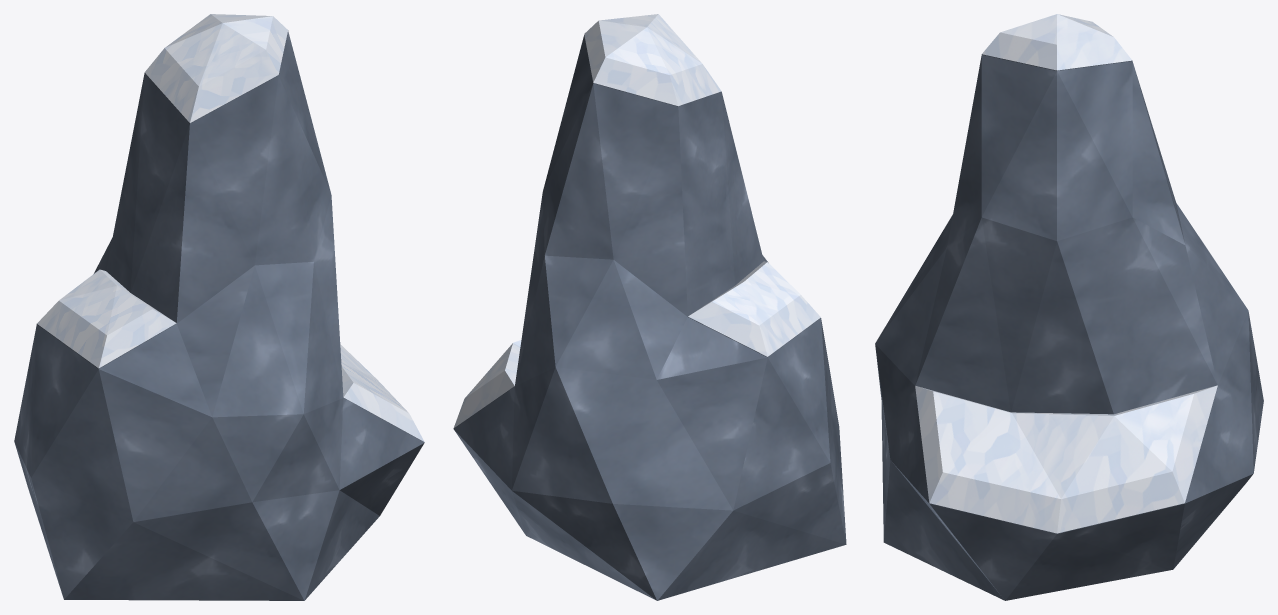
Rendered from Rock03.fbx.
3 renders of one model, left to right at view 1: azimuth 30°, elevation 25°; view 2: azimuth 150°, elevation 25°; view 3: azimuth 270°, elevation 25°, orthographic. The views are drawn at different scales.
Visible parts, largest first — view 1: Rock03; view 2: Rock03; view 3: Rock03.
Boxes of the visible parts, x1,y1,x2,y2 form: Rock03: (14,14,424,600); Rock03: (453,14,846,600); Rock03: (875,14,1263,600).
Size of the model in its own units: 149 by 206 by 137.
